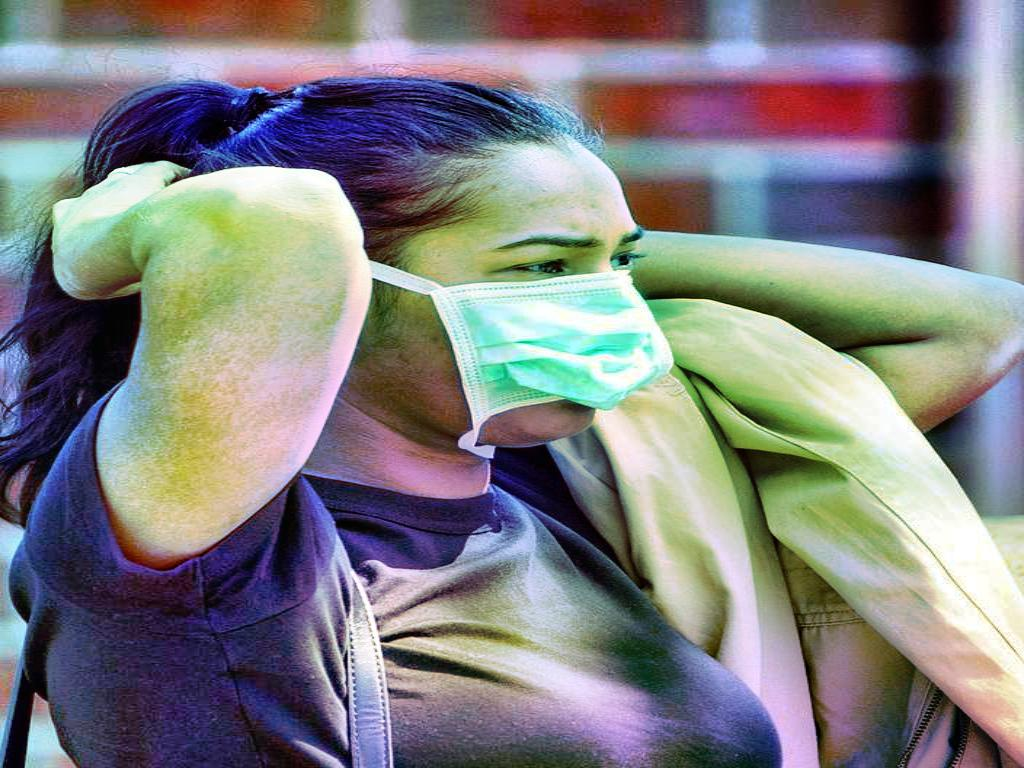mask_weared_incorrect: (193, 75, 680, 465)
